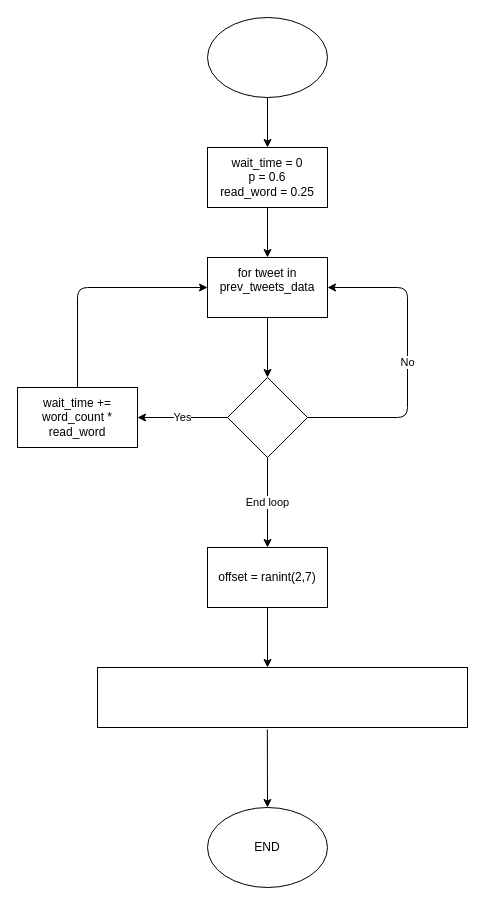
The diagram is 485 pixels wide and 905 high, and some of its shapes have lost their labels. Here are the shapes that lost their labels. From the top down, the centre of each, then its label:
At pixel 267 57: "Start".
At pixel 267 417: "random() < p".
At pixel 282 697: "return max(int(wait_time), MIN_WAIT_TIME) + random_offset".
